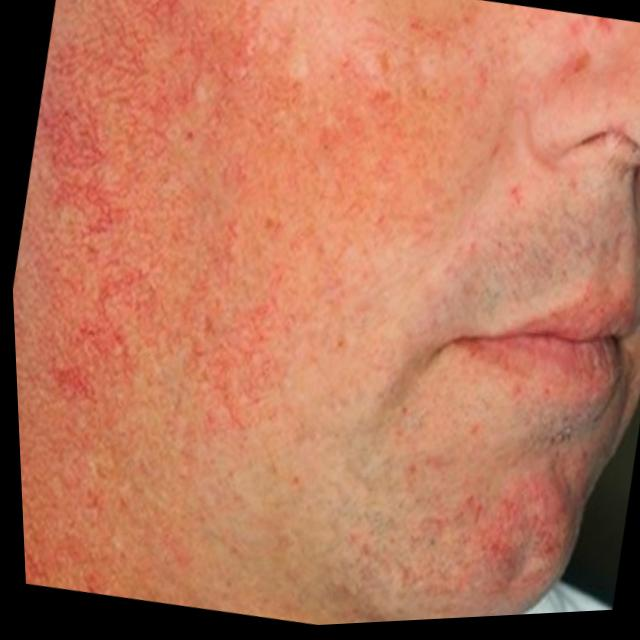skinredness: (0, 0, 509, 497)
